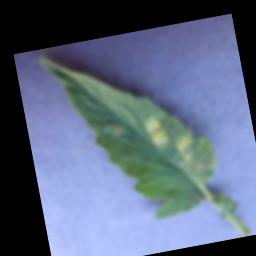Leaf_Mold: (141, 111, 171, 152), (171, 132, 199, 166)
